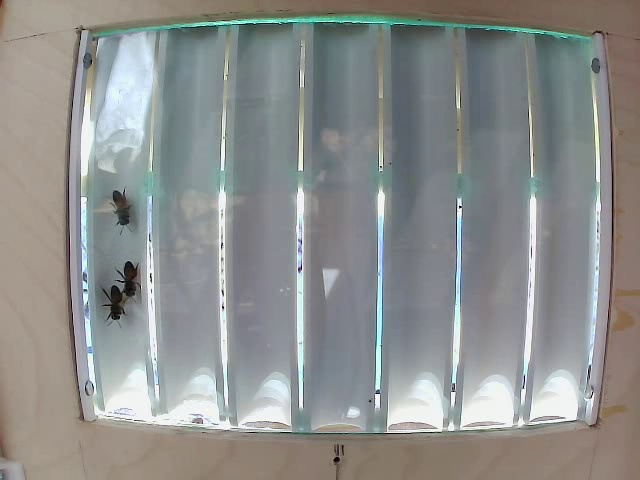bee: (108, 177, 151, 237), (89, 283, 134, 335), (119, 255, 148, 301)
